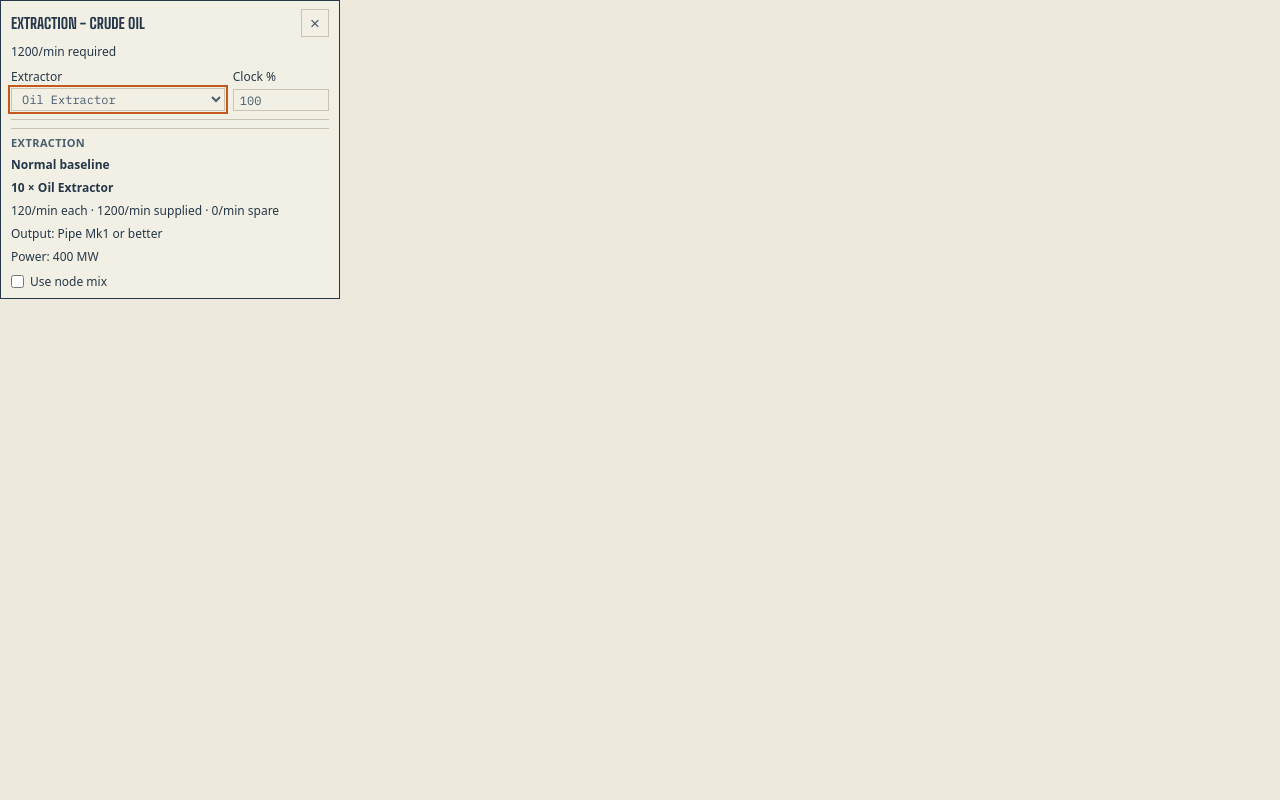
RawFeedNode › allows clearing the auto-seeded liquid_oil extractor
Select "Select extractor" in the dropdown labelled "Extractor" at (118, 100), box top-left (11, 88), bottom-right (225, 111)
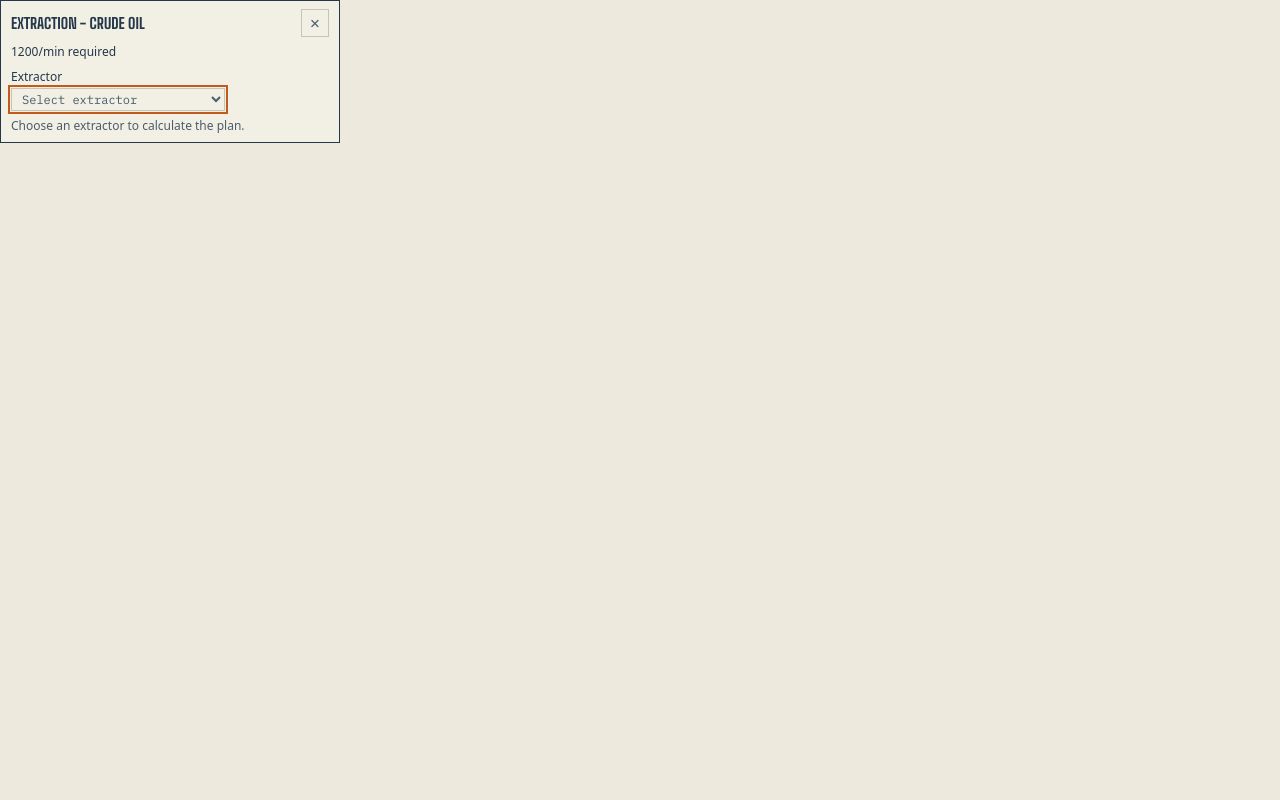
Expected: the text "Choose an extractor" is shown, top-left (11, 117), bottom-right (244, 134)
